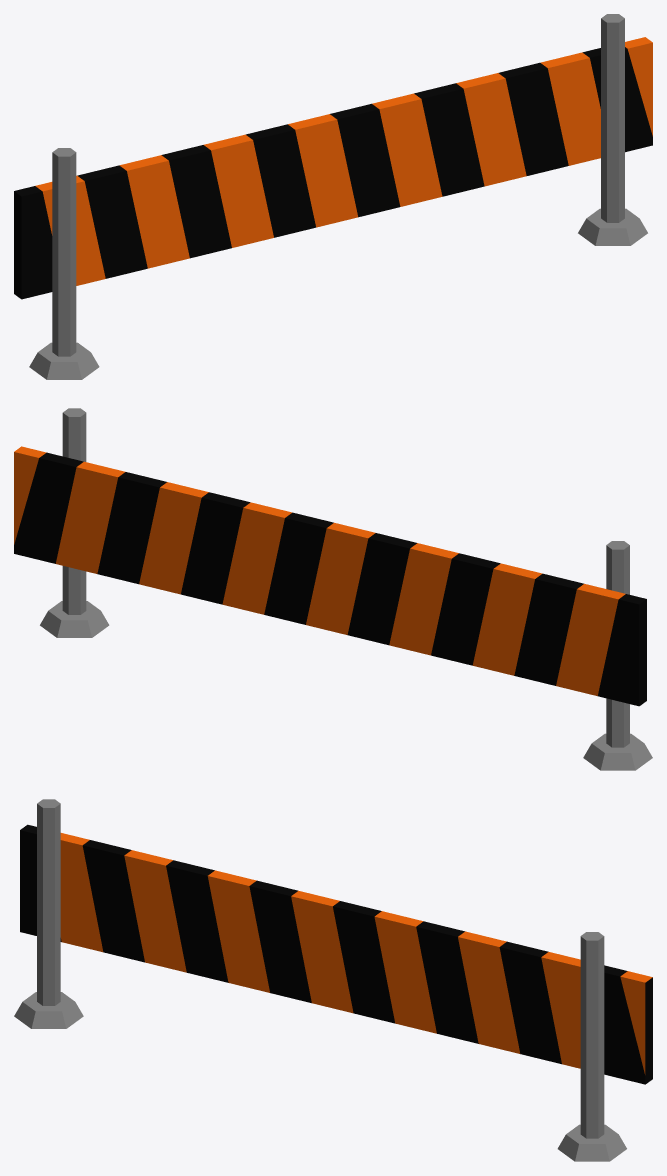
Rendered from Barreira_3_Faixa.fbx.
The picture shows the model from 3 angles, top to bottom: view 1: azimuth 30°, elevation 25°; view 2: azimuth 150°, elevation 25°; view 3: azimuth 330°, elevation 25°; orthographic projection.
Parts seen in each view (by area): view 1: Poste, Barreira; view 2: Poste, Barreira; view 3: Poste, Barreira.
Boxes of the visible parts, left/top/right/bottom form: Poste: left=14, top=37, right=652, bottom=299; Barreira: left=29, top=14, right=647, bottom=379; Poste: left=14, top=446, right=646, bottom=706; Barreira: left=40, top=408, right=652, bottom=770; Poste: left=20, top=824, right=652, bottom=1084; Barreira: left=14, top=799, right=626, bottom=1161.
Size of the model in its own units: 586 by 56.67 by 190.
